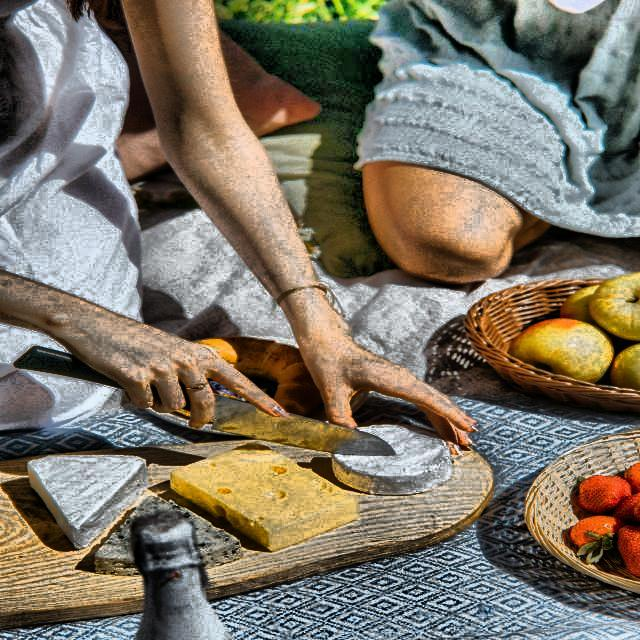knife: (14, 343, 407, 456)
